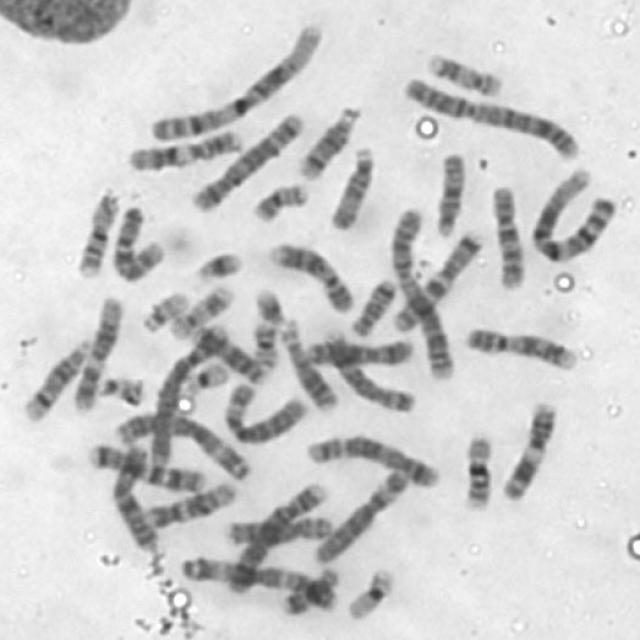A1: (144, 17, 326, 144), (525, 162, 618, 264)
A2: (399, 71, 582, 160), (384, 203, 459, 384)
A3: (106, 405, 254, 481), (179, 551, 339, 613)
B4: (143, 316, 239, 473), (220, 477, 332, 597)
B5: (185, 104, 307, 214), (300, 428, 443, 491)
C10: (108, 200, 166, 286), (486, 178, 530, 290)
C11: (498, 396, 559, 502), (122, 123, 245, 175)
C12: (69, 291, 126, 414), (141, 476, 237, 530)
C6: (310, 463, 412, 566), (218, 375, 310, 448)
C7: (390, 226, 486, 332), (81, 437, 209, 493)
C8: (316, 322, 418, 415), (220, 506, 337, 548)
C9: (263, 235, 357, 314), (459, 319, 581, 373)
D13: (275, 314, 344, 413), (186, 319, 269, 385)
D14: (16, 328, 97, 424), (292, 100, 363, 181)
D15: (324, 140, 377, 232), (429, 146, 468, 240)
E16: (72, 187, 120, 278), (456, 427, 494, 512)
E17: (421, 43, 509, 99), (165, 278, 236, 340)
E18: (276, 562, 342, 618), (347, 272, 399, 338)
F19: (341, 561, 398, 622), (175, 353, 232, 400)
F20: (246, 176, 312, 224), (246, 315, 281, 371)
G21: (188, 242, 246, 284), (250, 280, 288, 330)
G22: (135, 284, 191, 335), (91, 370, 146, 408)
X: (105, 437, 164, 554), (298, 332, 414, 368)
